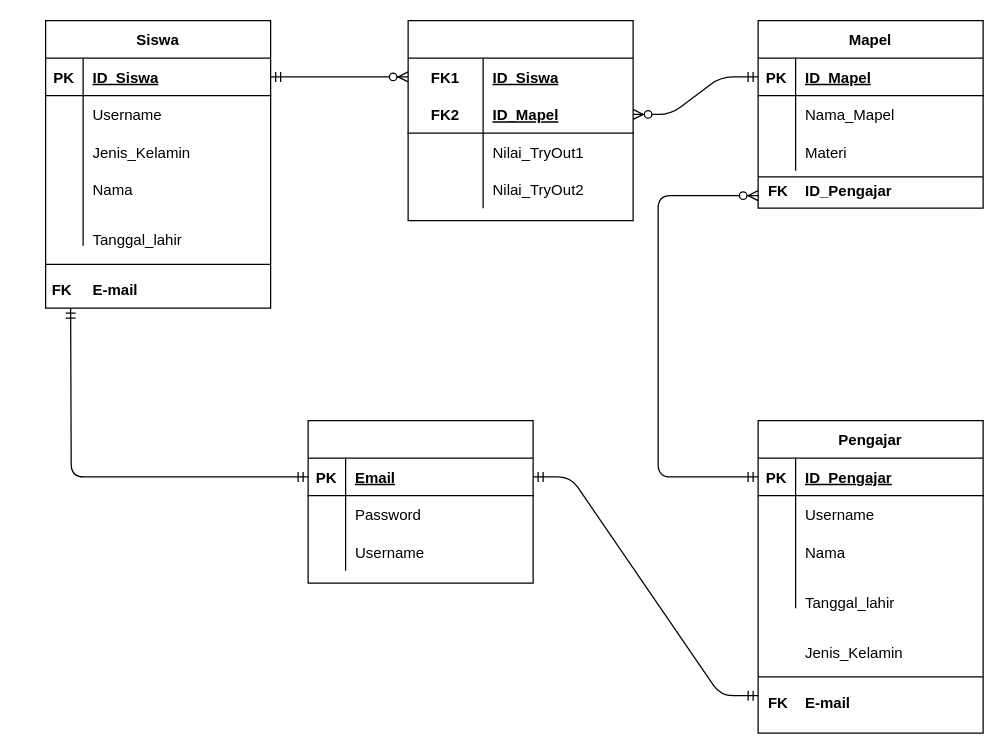
Image size: 1004x754. Some labels were removed from this diagram. Here are the shapes that lost their labels. From the top down, the box of each, then its label:
(407, 19, 633, 221): Belajar
(307, 419, 533, 583): Login
